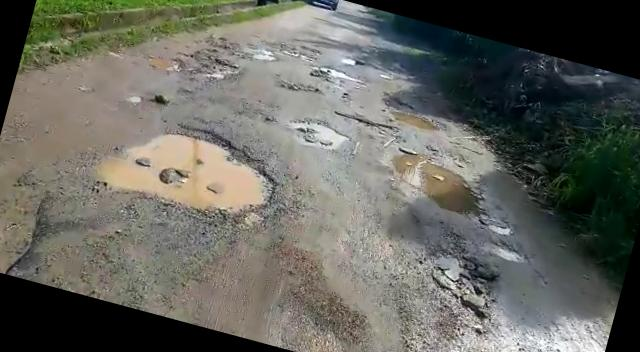pothole: (82, 102, 296, 236), (376, 144, 496, 224), (144, 36, 243, 92), (373, 89, 448, 136), (288, 114, 356, 154), (331, 108, 404, 138), (308, 60, 368, 88), (274, 75, 328, 100), (484, 238, 530, 265)
